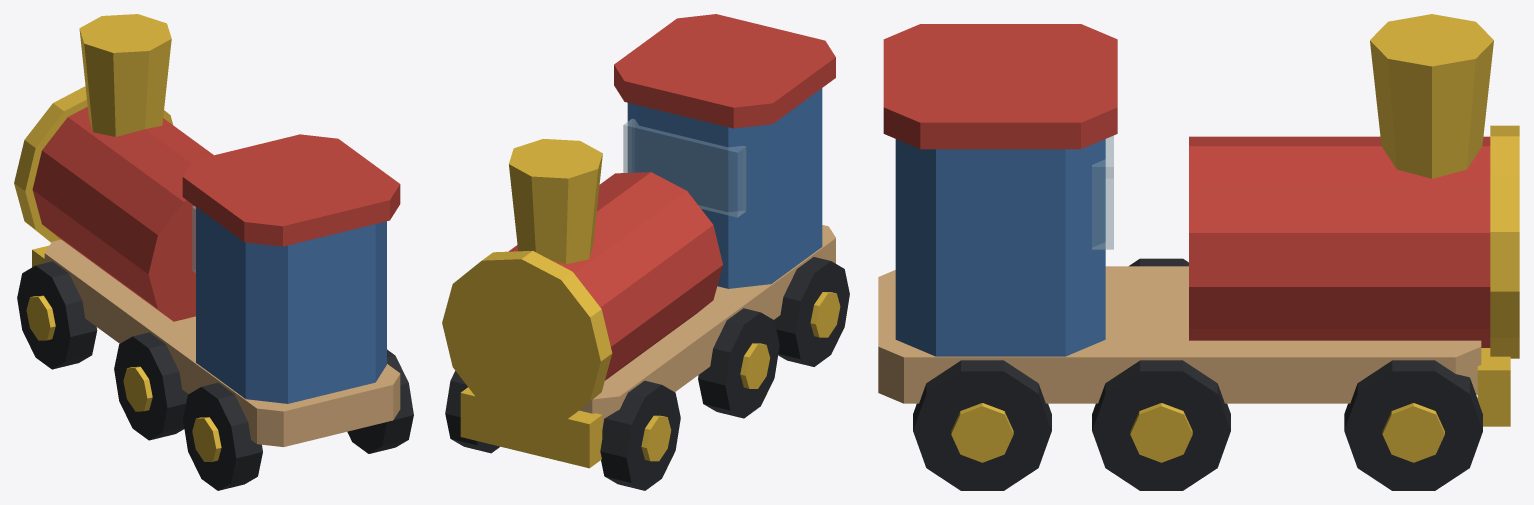
Rendered from SM_LPI_Kids_Train_01.fbx.
3 renders of one model, left to right at view 1: azimuth 30°, elevation 25°; view 2: azimuth 150°, elevation 25°; view 3: azimuth 270°, elevation 25°, orthographic. The views are drawn at different scales.
Visible parts, largest first — view 1: SM_LPI_Kids_Train_01; view 2: SM_LPI_Kids_Train_01; view 3: SM_LPI_Kids_Train_01.
Part boxes in pixels (box(x1,y1,x2,y2)): SM_LPI_Kids_Train_01: box(14, 14, 413, 490); SM_LPI_Kids_Train_01: box(442, 14, 849, 490); SM_LPI_Kids_Train_01: box(878, 14, 1519, 490).
Bounding box in the file's own units: 0.1548 × 0.2381 × 0.351.
